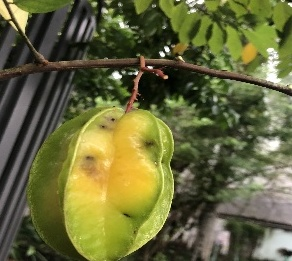Khe: (25, 105, 175, 261)
